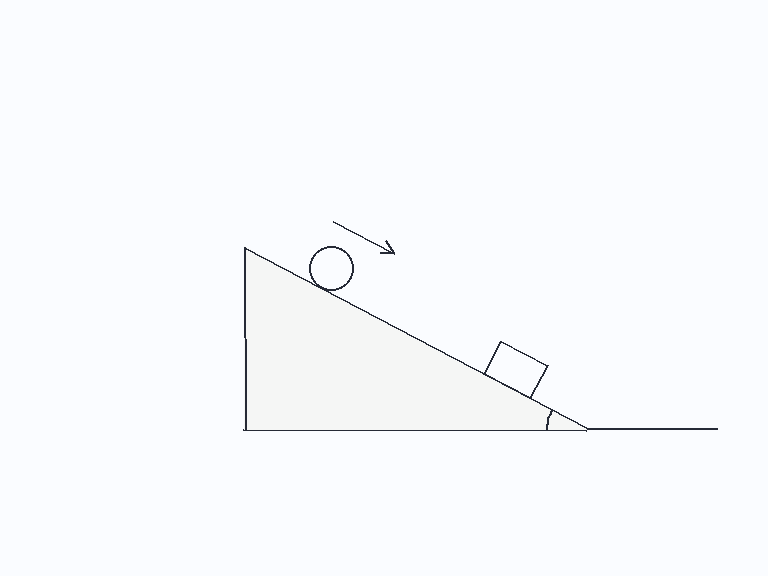ball: (307, 244, 355, 292)
block: (482, 339, 549, 400)
ramp: (242, 245, 589, 431)
